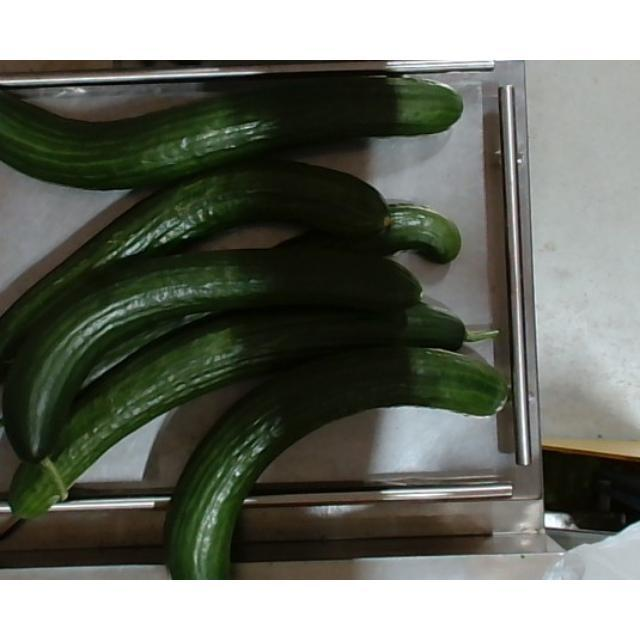cucumber: (0, 308, 500, 540), (0, 203, 462, 419), (1, 160, 393, 390), (0, 250, 422, 462), (168, 346, 528, 580), (1, 76, 466, 190)
